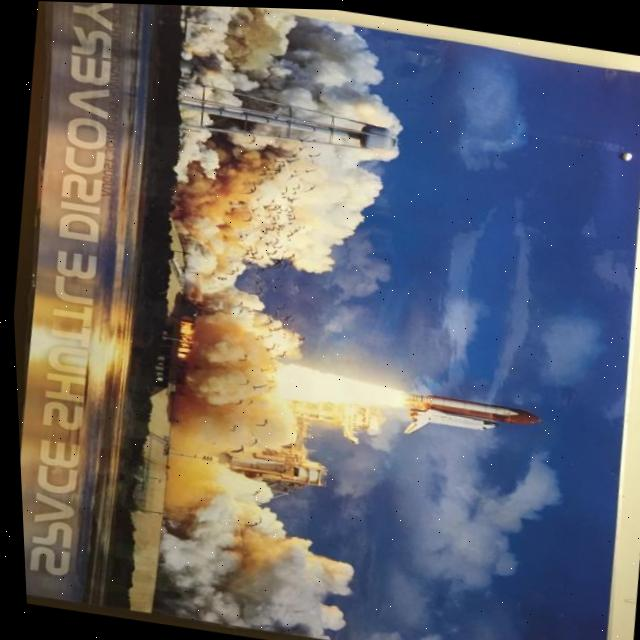missile: (390, 385, 530, 444)
